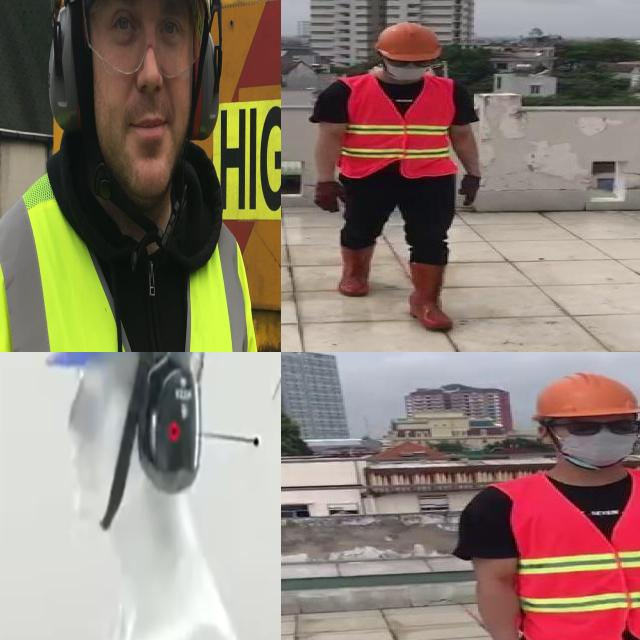Ear-protection: (144, 352, 200, 489), (40, 0, 83, 130), (189, 23, 222, 141)
boots: (406, 260, 458, 334), (338, 243, 376, 298)
glasses: (81, 0, 209, 93)
head_helmet: (532, 368, 640, 420), (364, 19, 448, 64)
person: (298, 13, 496, 344), (456, 363, 640, 640)
vest: (506, 473, 640, 640), (342, 78, 458, 179)
